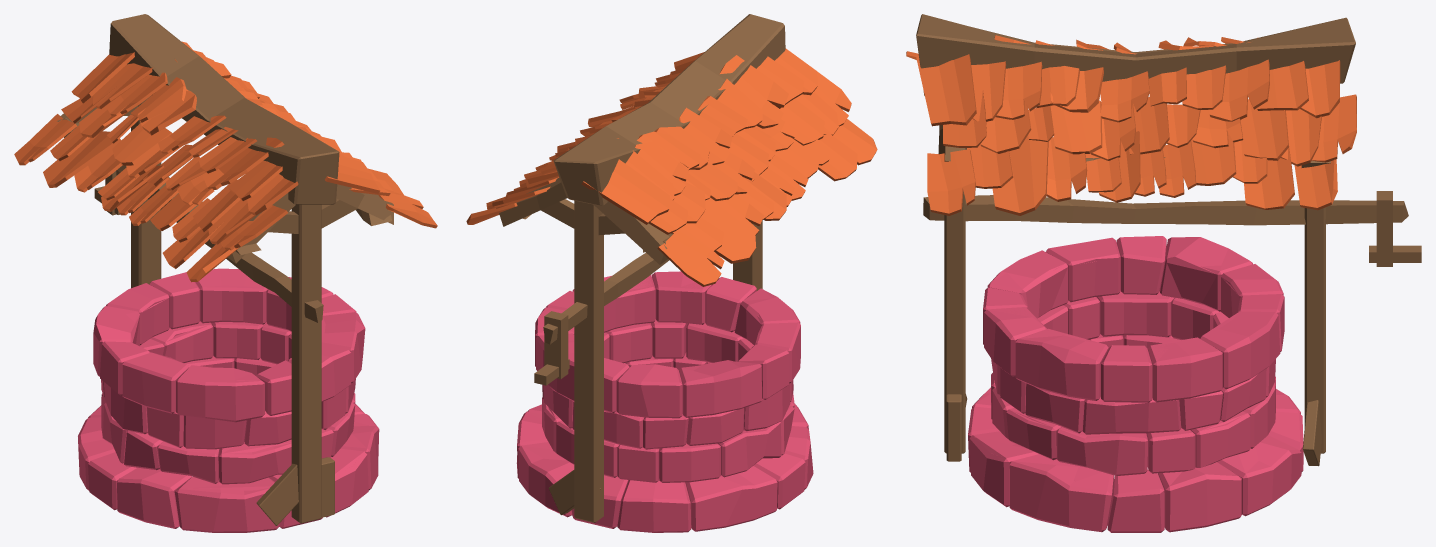
Rendered from wweel.fbx.
The picture shows the model from 3 angles, left to right: view 1: azimuth 30°, elevation 25°; view 2: azimuth 150°, elevation 25°; view 3: azimuth 270°, elevation 25°; orthographic projection. The views are drawn at different scales.
Visible parts, largest first — view 1: Cube, Plane.006, Cube.005; view 2: Cube, Plane.006, Cube.005; view 3: Cube, Plane.006, Cube.005.
Boxes of the visible parts, x1,y1,x2,y2 form: Cube: (78,268,379,532); Plane.006: (14,41,437,282); Cube.005: (57,14,393,525); Cube: (516,271,813,532); Plane.006: (466,48,877,286); Cube.005: (499,14,785,522); Cube: (968,236,1303,532); Plane.006: (906,35,1356,215); Cube.005: (916,14,1421,466).
Size of the model in its own units: 1418 by 2008 by 2147.
